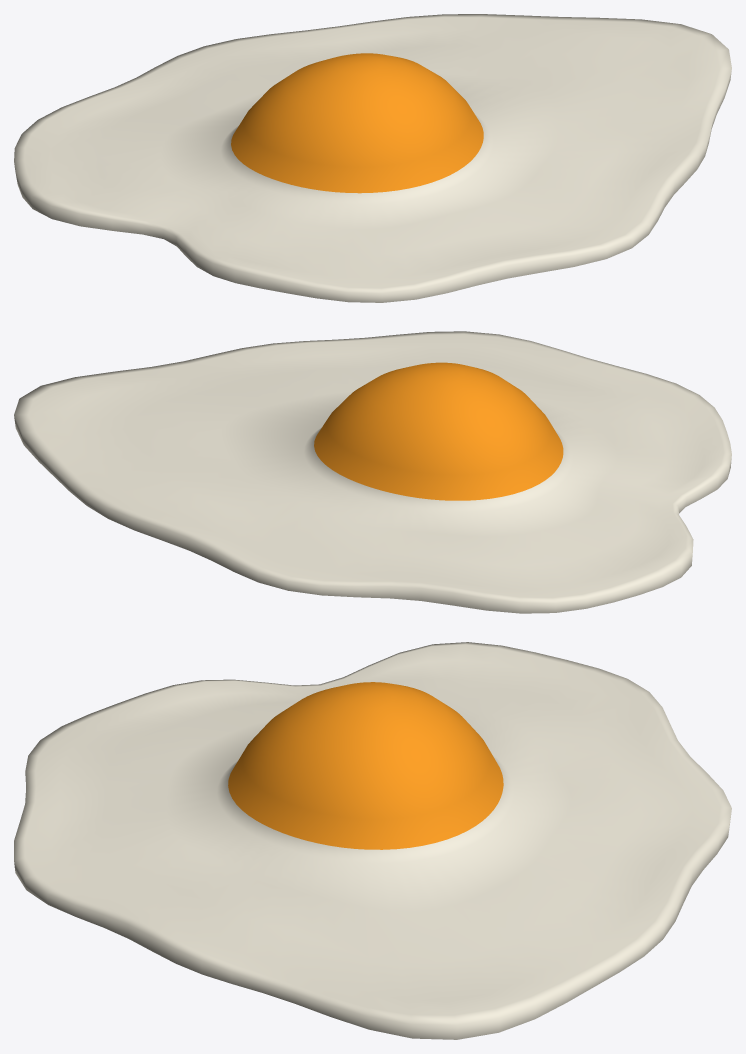
3 renders of one model, top to bottom at view 1: azimuth 30°, elevation 25°; view 2: azimuth 150°, elevation 25°; view 3: azimuth 270°, elevation 25°, orthographic. The views are drawn at different scales.
Visible parts, largest first — view 1: NEW329_Whole_fried_egg_LOD1; view 2: NEW329_Whole_fried_egg_LOD1; view 3: NEW329_Whole_fried_egg_LOD1.
Boxes of the visible parts, x1,y1,x2,y2 form: NEW329_Whole_fried_egg_LOD1: [14, 14, 731, 302]; NEW329_Whole_fried_egg_LOD1: [14, 331, 731, 613]; NEW329_Whole_fried_egg_LOD1: [14, 642, 731, 1039].
Size of the model in its own units: 0.109 by 0.0165 by 0.0863.
